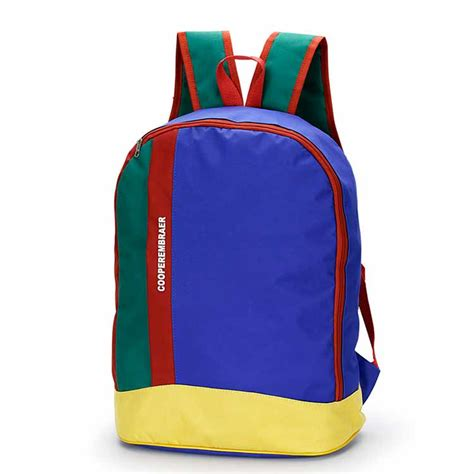nylon: (111, 28, 380, 457)
